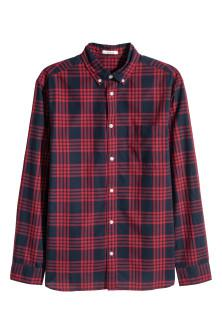teeshirt: (15, 38, 216, 292)
